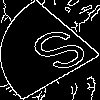S: (25, 25, 100, 83)
